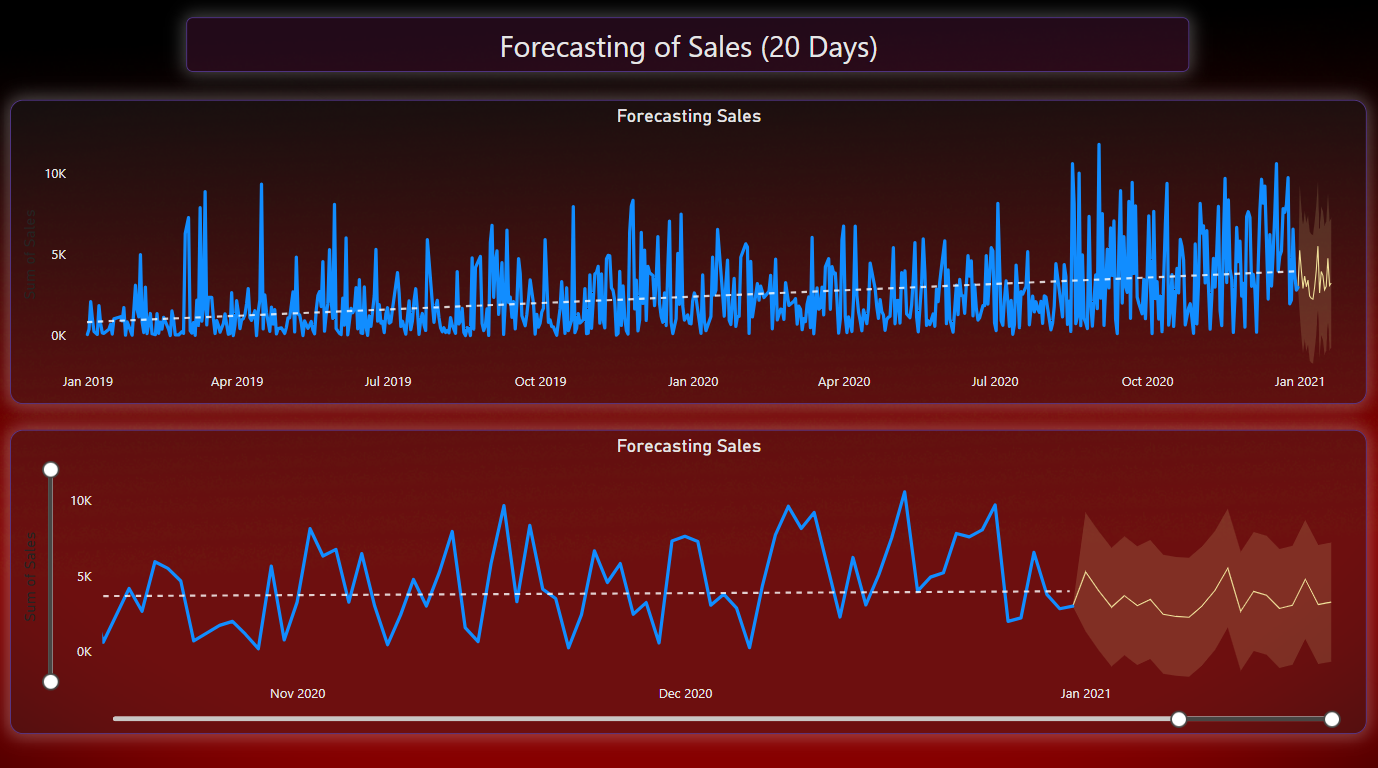

The page's visual inventory and layout, read from the dashboard file:
{"tool":"powerbi","page":{"name":"Page 2","canvas":[1280,720],"ordinal":1},"visuals":[{"type":"lineChart","title":"Forecasting Sales","fields":{"Y":["Sum(SuperStore_Sales_Dataset.Sales)"],"Category":["SuperStore_Sales_Dataset.Order Date"]},"box":[14,95.5,1251.6,281],"z":0},{"type":"lineChart","title":"Forecasting Sales","fields":{"Y":["Sum(SuperStore_Sales_Dataset.Sales)"],"Category":["SuperStore_Sales_Dataset.Order Date"]},"box":[14,400.4,1251.6,281],"z":1},{"type":"textbox","box":[177,19.7,925.7,50.6],"z":2}]}

Visuals, with their boxes in screenshot pixels (x1, y1, x2, y2), scaled from the page's 1280x720 canvas onto the 1378x768 screenshot:
"Forecasting Sales" lineChart: 15/102/1362/402
"Forecasting Sales" lineChart: 15/427/1362/727
textbox: 191/21/1187/75
